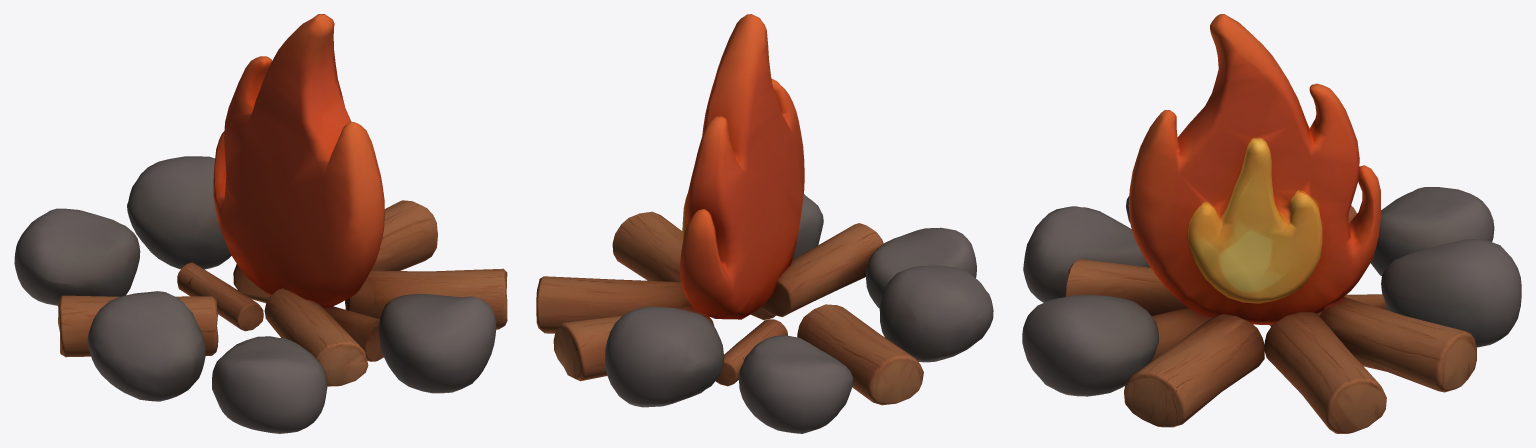
File: campfire.glb
3 renders of one model, left to right at view 1: azimuth 30°, elevation 25°; view 2: azimuth 150°, elevation 25°; view 3: azimuth 270°, elevation 25°, orthographic. The views are drawn at different scales.
Parts seen in each view (by area): view 1: tripo_node_0b810455-90c4-4d62-94ea-f1a104e5332d; view 2: tripo_node_0b810455-90c4-4d62-94ea-f1a104e5332d; view 3: tripo_node_0b810455-90c4-4d62-94ea-f1a104e5332d.
Part boxes in pixels (x1=…): tripo_node_0b810455-90c4-4d62-94ea-f1a104e5332d: x1=14, y1=14, x2=507, y2=433; tripo_node_0b810455-90c4-4d62-94ea-f1a104e5332d: x1=536, y1=14, x2=993, y2=433; tripo_node_0b810455-90c4-4d62-94ea-f1a104e5332d: x1=1022, y1=14, x2=1521, y2=433.
Bounding box in the file's own units: 0.9707 × 0.752 × 0.998.
Materials: 1 (1 with a texture image).
